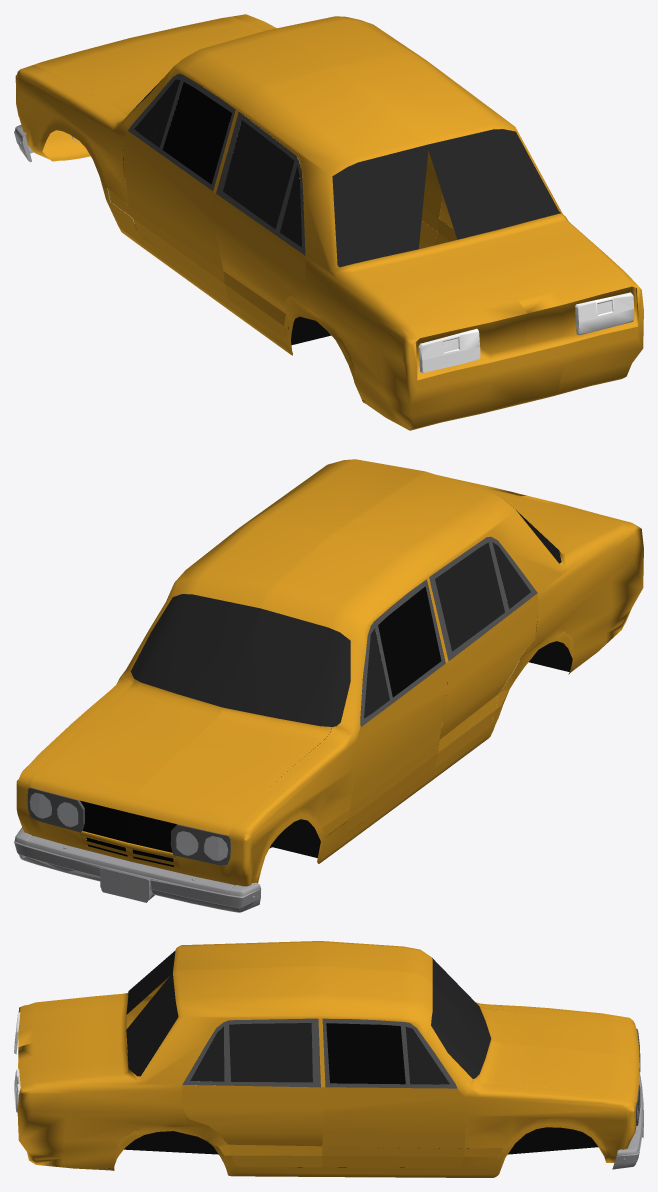
File: car2.glb
3 views of the same model, one above another, from view 1: azimuth 30°, elevation 25°; view 2: azimuth 150°, elevation 25°; view 3: azimuth 270°, elevation 25° (orthographic). The views are drawn at different scales.
Visible parts, largest first — view 1: Plane.036_0, Plane.008_7, Plane.020_18, Plane.016_15, Plane.017_16, Plane.013_12, Plane.018_19, rlight_28, Plane.015_14, Plane.012_11, Plane.024_24, Plane.010_9 (+5 smaller); view 2: Plane.036_0, Plane.020_18, Plane.009_8, banyak_27, Plane.016_15, Plane.017_16, Plane.013_12, Plane.018_19, Plane.005_5, Plane_22, Plane.015_14, Plane.004_4 (+9 smaller); view 3: Plane.036_0, Plane.020_18, Plane.016_15, Plane.017_16, Plane.013_12, Plane.018_19, Plane.009_8, Plane.008_7, Plane_22, Plane.015_14, Plane.012_11, Plane.024_24 (+7 smaller).
Part boxes in pixels (<box>): Plane.036_0: <box>15,14,643,430</box>; Plane.008_7: <box>332,129,560,267</box>; Plane.020_18: <box>33,16,263,115</box>; Plane.016_15: <box>123,131,442,270</box>; Plane.017_16: <box>214,194,521,313</box>; Plane.013_12: <box>223,120,294,229</box>; Plane.018_19: <box>162,82,231,184</box>; rlight_28: <box>418,292,634,372</box>; Plane.015_14: <box>216,112,305,255</box>; Plane.012_11: <box>128,73,235,190</box>; Plane.024_24: <box>133,218,437,298</box>; Plane.010_9: <box>134,79,180,147</box>; Plane.036_0: <box>16,459,643,886</box>; Plane.020_18: <box>30,679,331,835</box>; Plane.009_8: <box>130,594,350,726</box>; banyak_27: <box>14,827,261,912</box>; Plane.016_15: <box>130,662,448,809</box>; Plane.017_16: <box>439,593,538,739</box>; Plane.013_12: <box>435,542,504,651</box>; Plane.018_19: <box>378,586,441,697</box>; Plane.005_5: <box>80,800,176,852</box>; Plane_22: <box>132,582,573,857</box>; Plane.015_14: <box>429,536,537,660</box>; Plane.004_4: <box>27,787,230,864</box>; Plane.036_0: <box>17,941,639,1177</box>; Plane.020_18: <box>475,1007,639,1103</box>; Plane.016_15: <box>321,1019,465,1148</box>; Plane.017_16: <box>181,1018,323,1146</box>; Plane.013_12: <box>229,1023,312,1082</box>; Plane.018_19: <box>326,1023,405,1084</box>; Plane.009_8: <box>431,958,491,1078</box>; Plane.008_7: <box>126,950,178,1076</box>; Plane_22: <box>104,1127,598,1169</box>; Plane.015_14: <box>182,1018,320,1087</box>; Plane.012_11: <box>322,1018,457,1088</box>; Plane.024_24: <box>322,1083,463,1167</box>.
Size of the model in its own units: 0.7583 by 0.6823 by 2.23.
